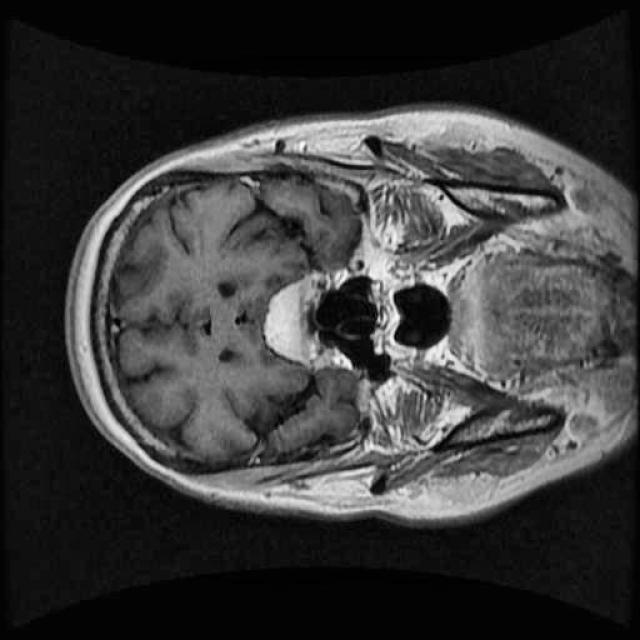Tumor: (244, 249, 338, 393)
